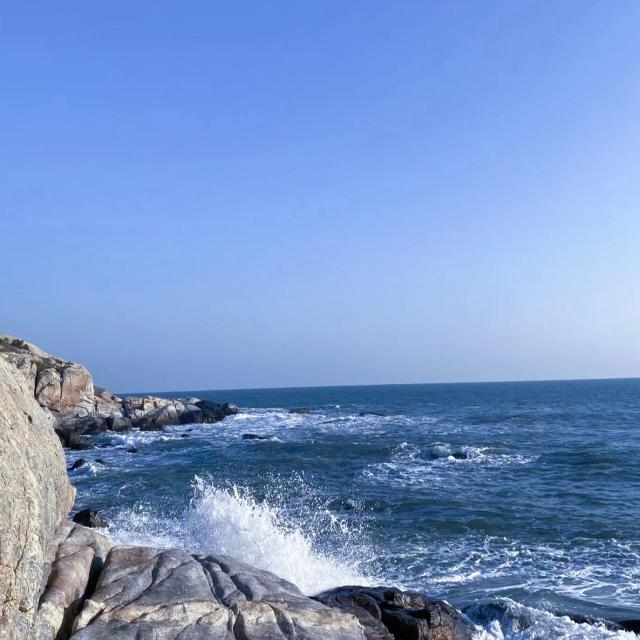reef: (127, 514, 416, 640), (88, 366, 245, 438)
